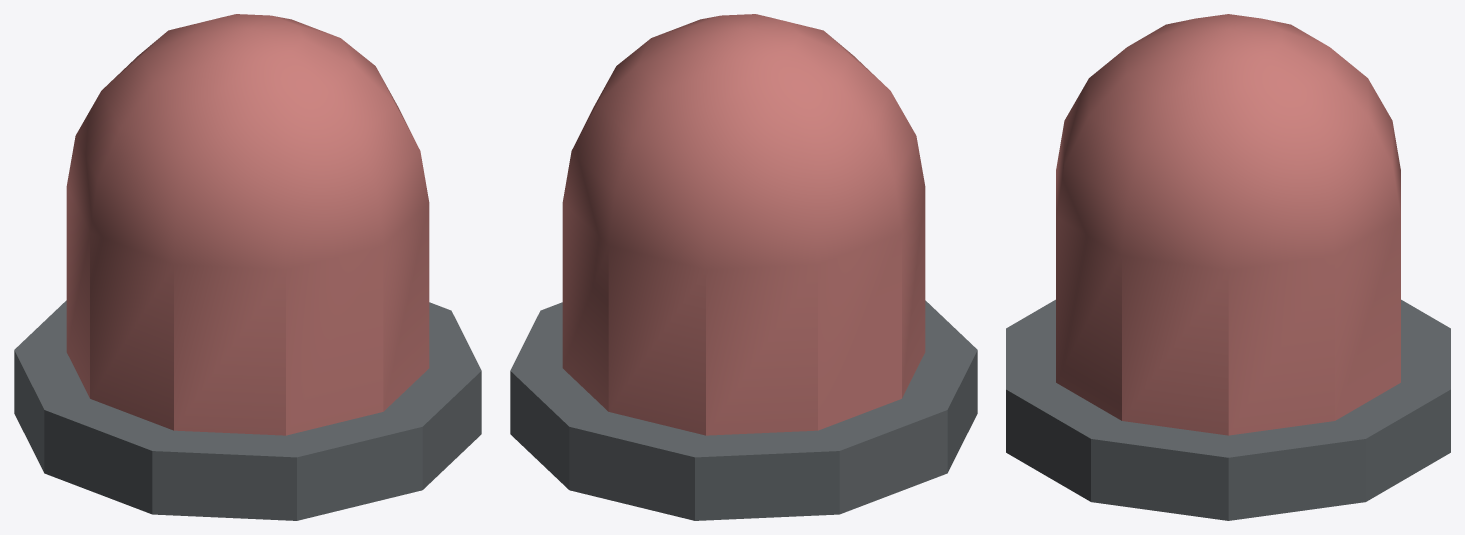
File: Elevator_Frame_Lights.fbx
3 views of the same model, side by side, from view 1: azimuth 30°, elevation 25°; view 2: azimuth 150°, elevation 25°; view 3: azimuth 270°, elevation 25° (orthographic).
Parts seen in each view (by area): view 1: pSphere10; view 2: pSphere10; view 3: pSphere10.
Boxes of the visible parts, x1=… form: pSphere10: x1=14, y1=14, x2=481, y2=520; pSphere10: x1=510, y1=14, x2=977, y2=520; pSphere10: x1=1006, y1=14, x2=1450, y2=520.
Bounding box in the file's own units: 0.2116 × 0.196 × 0.2013.
